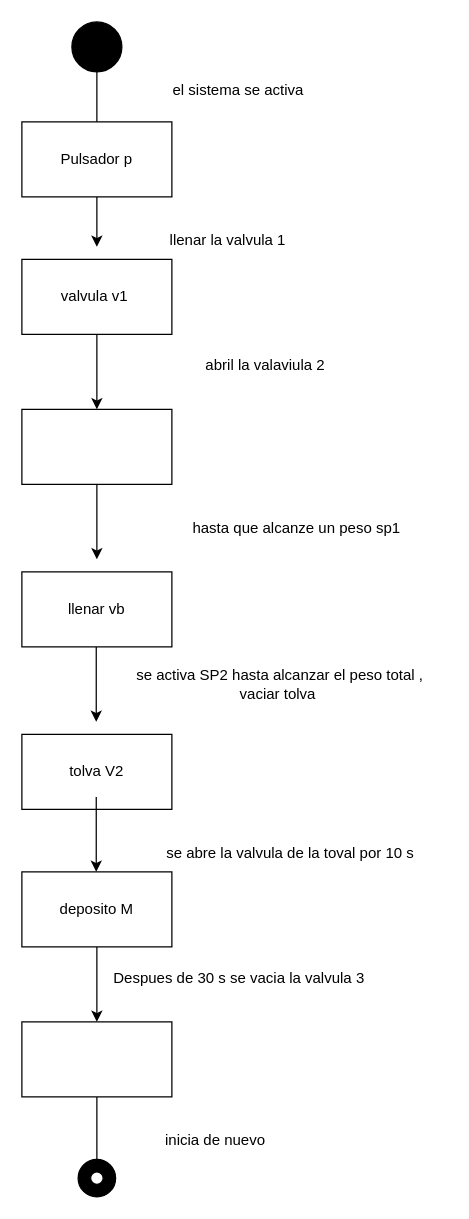
Some shapes in this 469 by 1219 pixel diagram are drawn without their labels. The shapes that lost their labels are listed below. From the top down, each one's box as (x1, y1, x2, y2) in pixels, then its label:
(21, 408, 172, 484): llenar valvula A
(21, 1021, 172, 1097): vacia desposito v3
